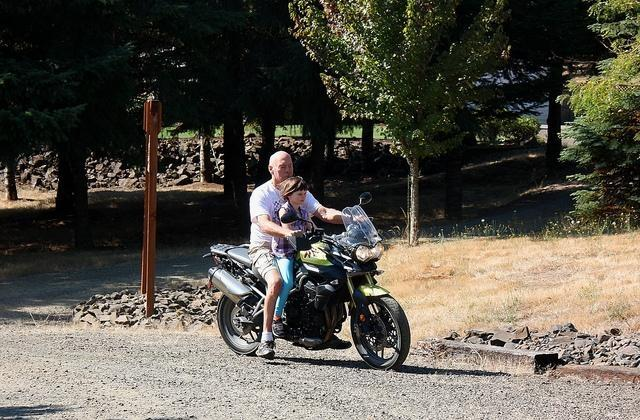motorcycle: (193, 187, 420, 374)
